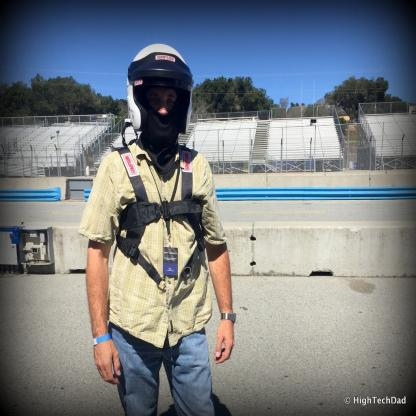Helmet: (122, 43, 191, 155)
